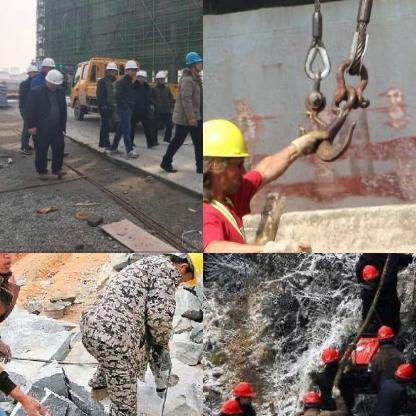Helmet: (203, 109, 255, 203), (157, 253, 202, 283), (390, 360, 415, 389), (359, 259, 384, 287), (298, 387, 324, 413), (182, 48, 202, 76), (318, 343, 341, 367), (372, 323, 396, 346), (231, 380, 256, 402), (43, 68, 63, 92), (213, 398, 241, 415), (103, 60, 117, 78), (124, 58, 136, 78), (24, 62, 38, 78), (40, 55, 52, 73), (134, 68, 146, 82), (154, 68, 164, 83)
